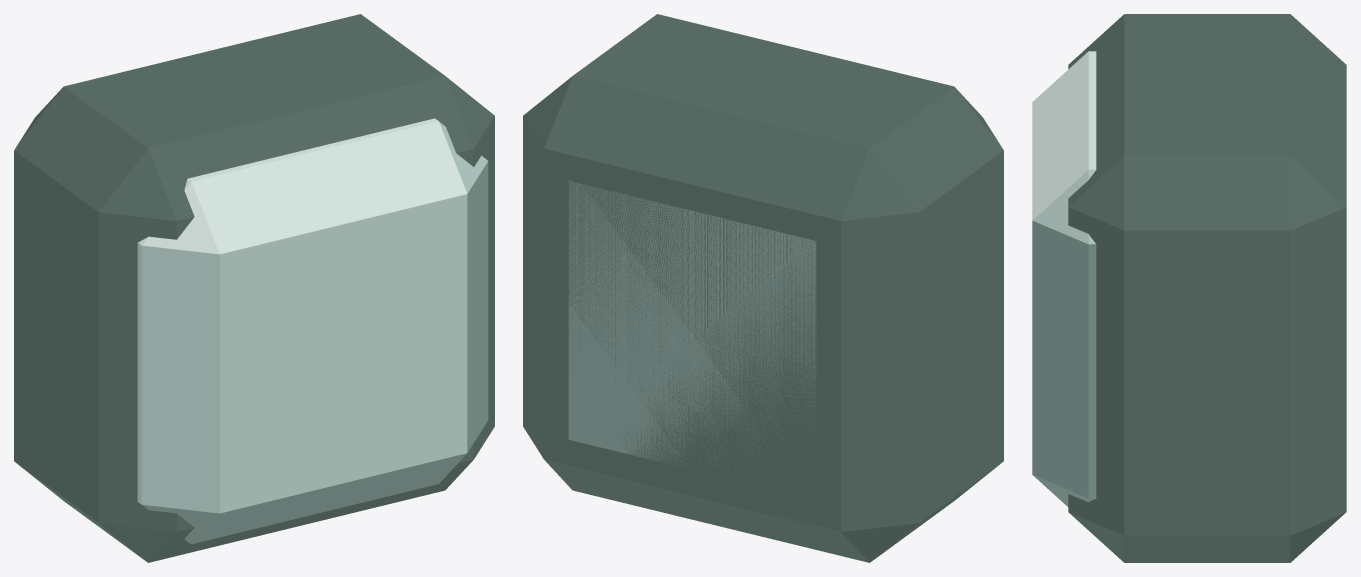
File: Terrain_Block1x1.gltf
The picture shows the model from 3 angles, left to right: view 1: azimuth 30°, elevation 25°; view 2: azimuth 150°, elevation 25°; view 3: azimuth 270°, elevation 25°; orthographic projection.
Parts seen in each view (by area): view 1: Terrain_Block1x1_baked; view 2: Terrain_Block1x1_baked; view 3: Terrain_Block1x1_baked.
Part boxes in pixels (bbox=[...]): Terrain_Block1x1_baked: bbox=[14, 14, 494, 562]; Terrain_Block1x1_baked: bbox=[523, 14, 1003, 562]; Terrain_Block1x1_baked: bbox=[1032, 14, 1346, 562].
Bounding box in the file's own units: 1 × 1 × 0.7.
